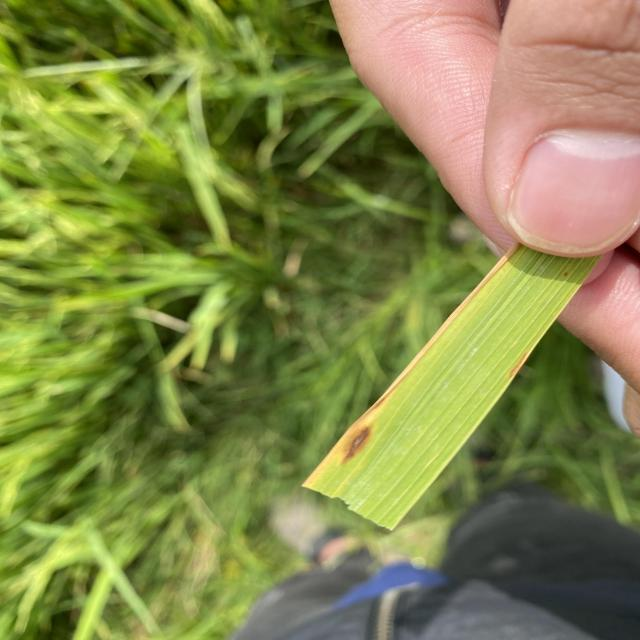Dom nau: (341, 424, 374, 467)
